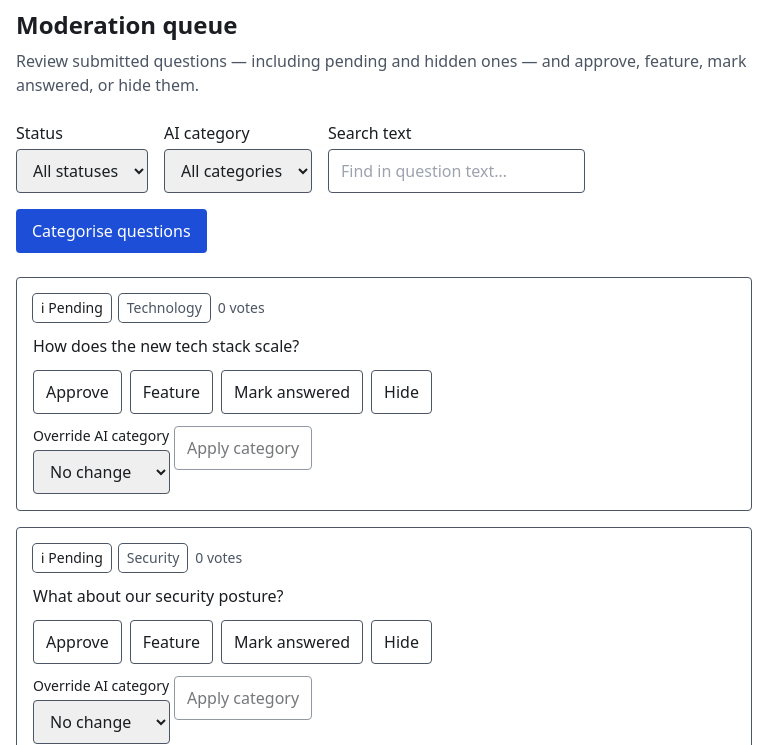
it: ModerationQueue — AI category filter (Req 3.11) › narrows the visible list to rows matching the selected AI category
Expected: the text "How does the new tech stack scale?" is shown, x1=33 y1=335 x2=299 y2=357
Expected: the text "What about our security posture?" is shown, x1=33 y1=585 x2=284 y2=607
Select "Technology" in the dropdown labelled "AI category" at coordinates (238, 171), box x1=164 y1=149 x2=312 y2=193
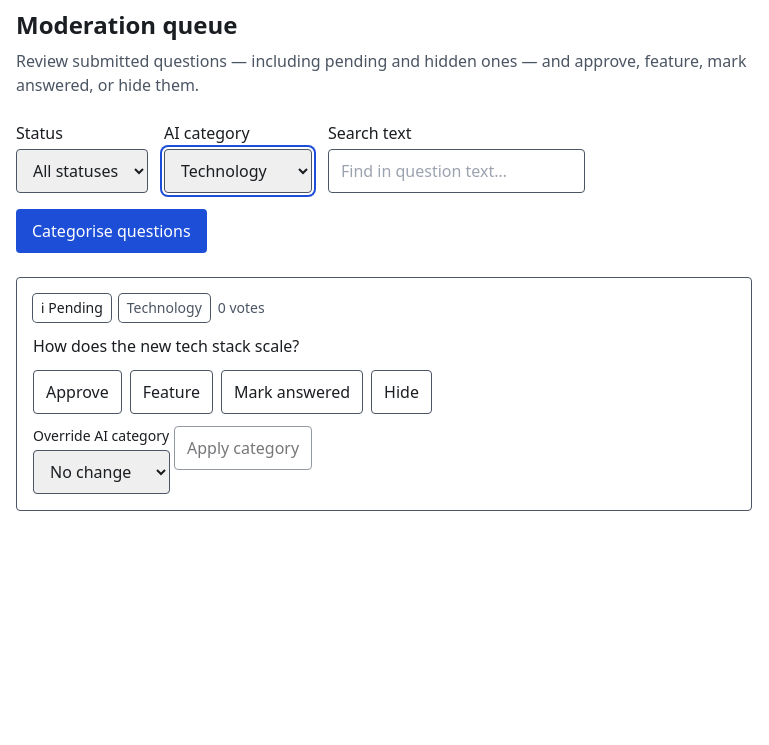
Expected: the text "How does the new tech stack scale?" is shown, x1=33 y1=335 x2=299 y2=357
Now the text "What about our security posture" is gone
